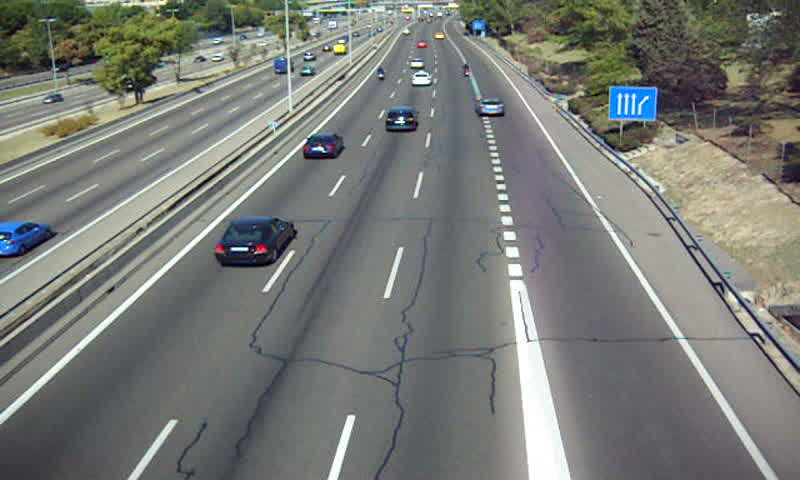car: (212, 216, 295, 266), (301, 133, 343, 159), (384, 106, 419, 134), (474, 99, 506, 119), (410, 70, 430, 88)
motorcycle: (462, 63, 474, 79), (377, 64, 386, 82)
